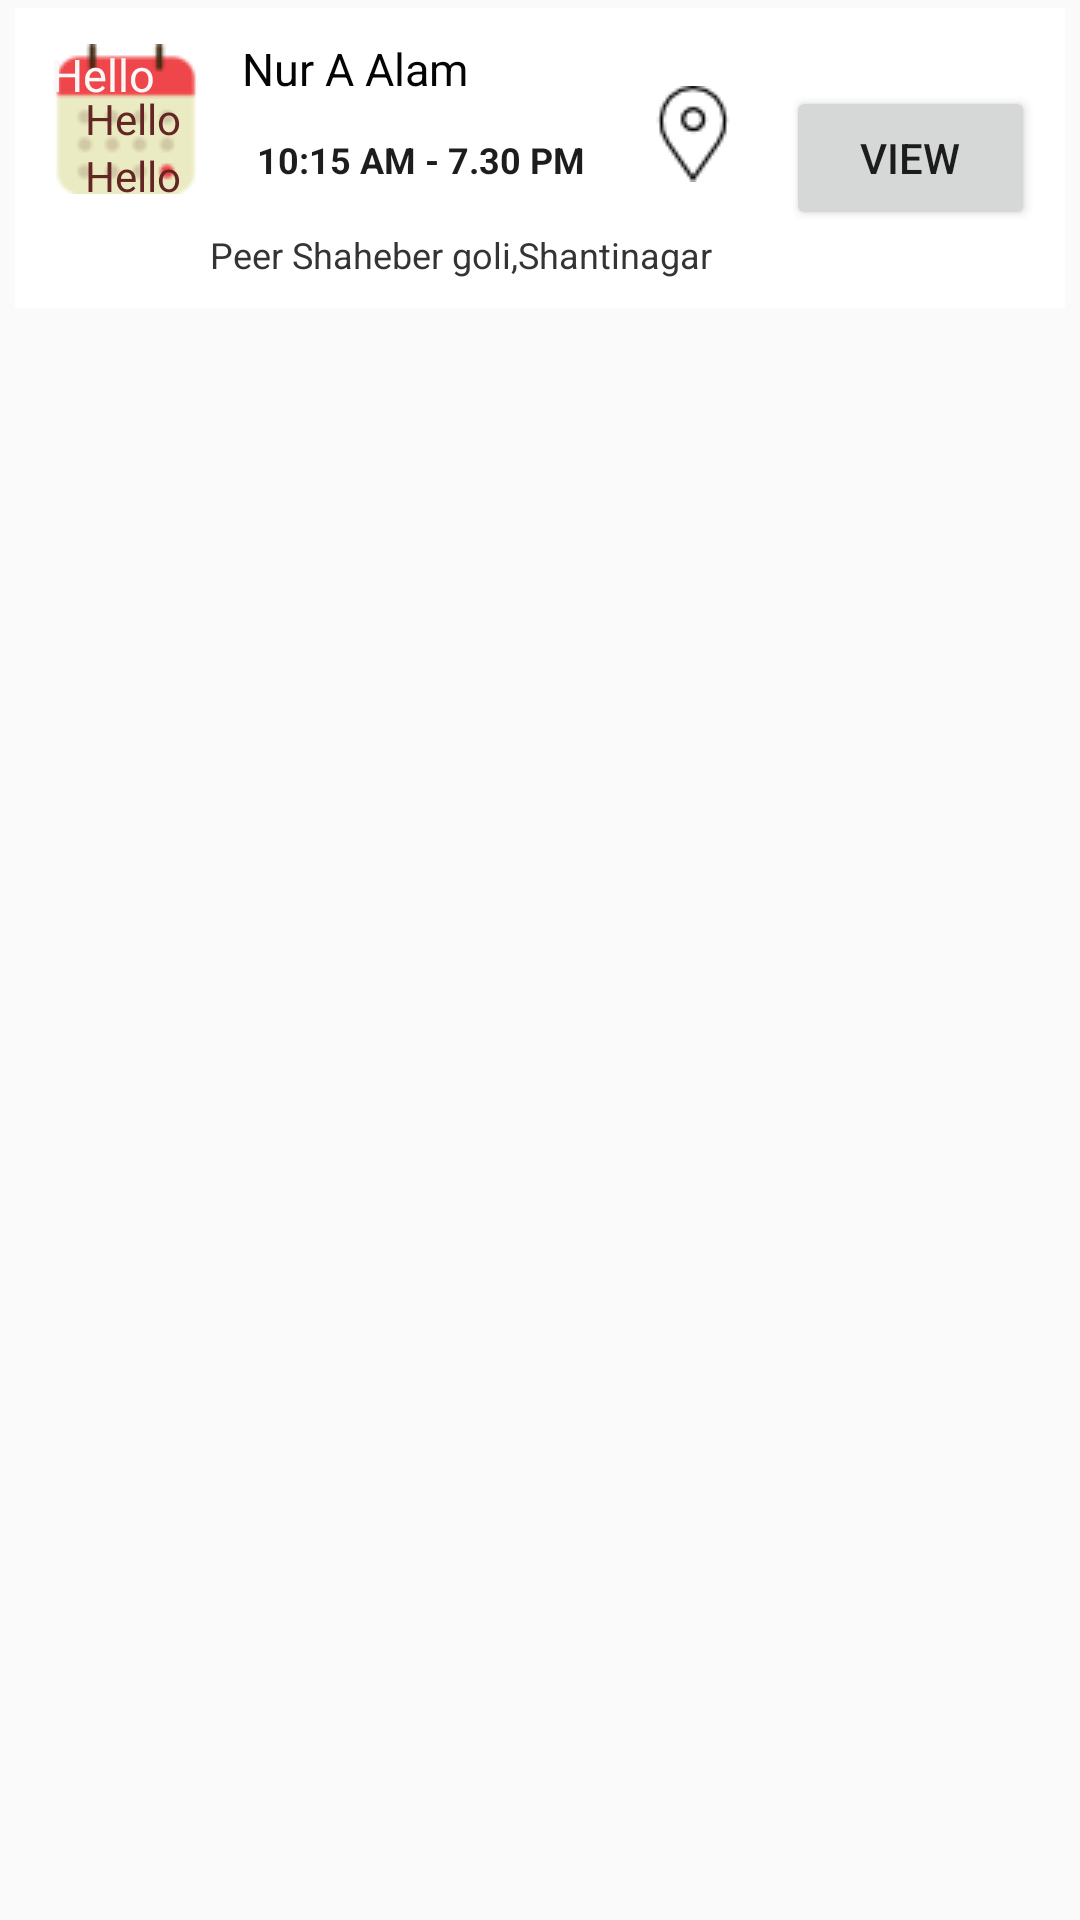

Named icons in this screenshot (1080 x 1920) and their bounding boxes, (x1, y1, x2, y2):
calender: (56, 44, 196, 194)
map: (658, 86, 728, 182)
